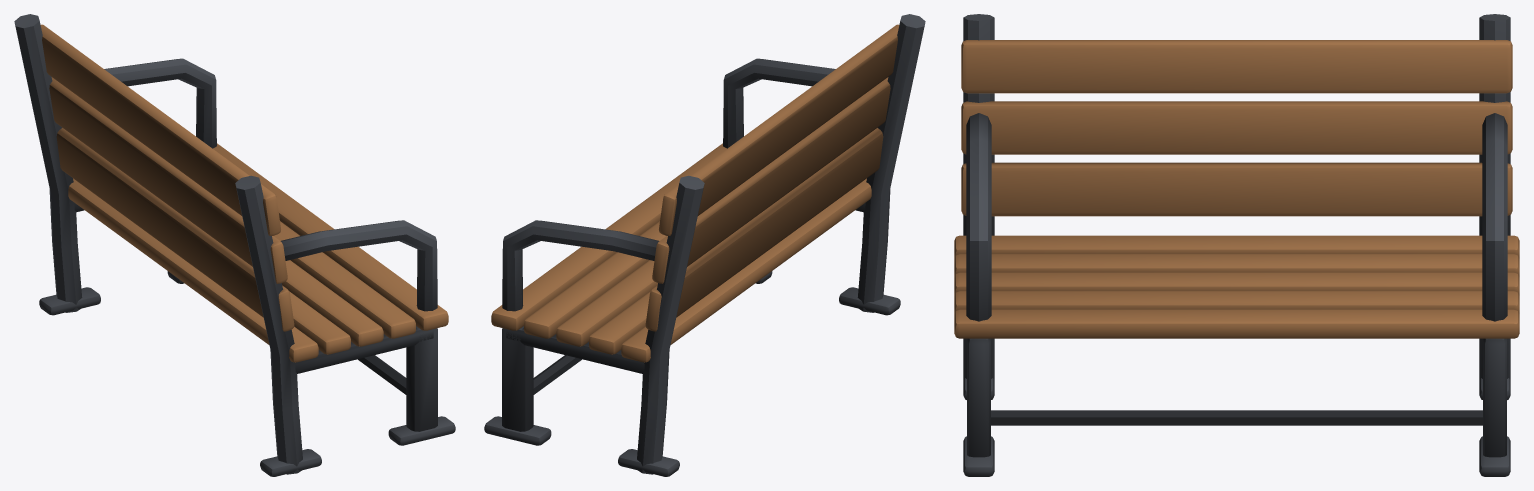
File: bench.glb
The picture shows the model from 3 angles, left to right: view 1: azimuth 30°, elevation 25°; view 2: azimuth 150°, elevation 25°; view 3: azimuth 270°, elevation 25°; orthographic projection. The views are drawn at different scales.
Parts seen in each view (by area): view 1: wood, iron; view 2: wood, iron; view 3: wood, iron.
Boxes of the visible parts, x1=… form: wood: x1=40, y1=24, x2=448, y2=362; iron: x1=14, y1=14, x2=455, y2=476; wood: x1=491, y1=24, x2=899, y2=362; iron: x1=484, y1=14, x2=925, y2=476; wood: x1=954, y1=40, x2=1519, y2=338; iron: x1=963, y1=14, x2=1510, y2=476.
Size of the model in its own units: 0.4088 by 0.5464 by 0.8.
